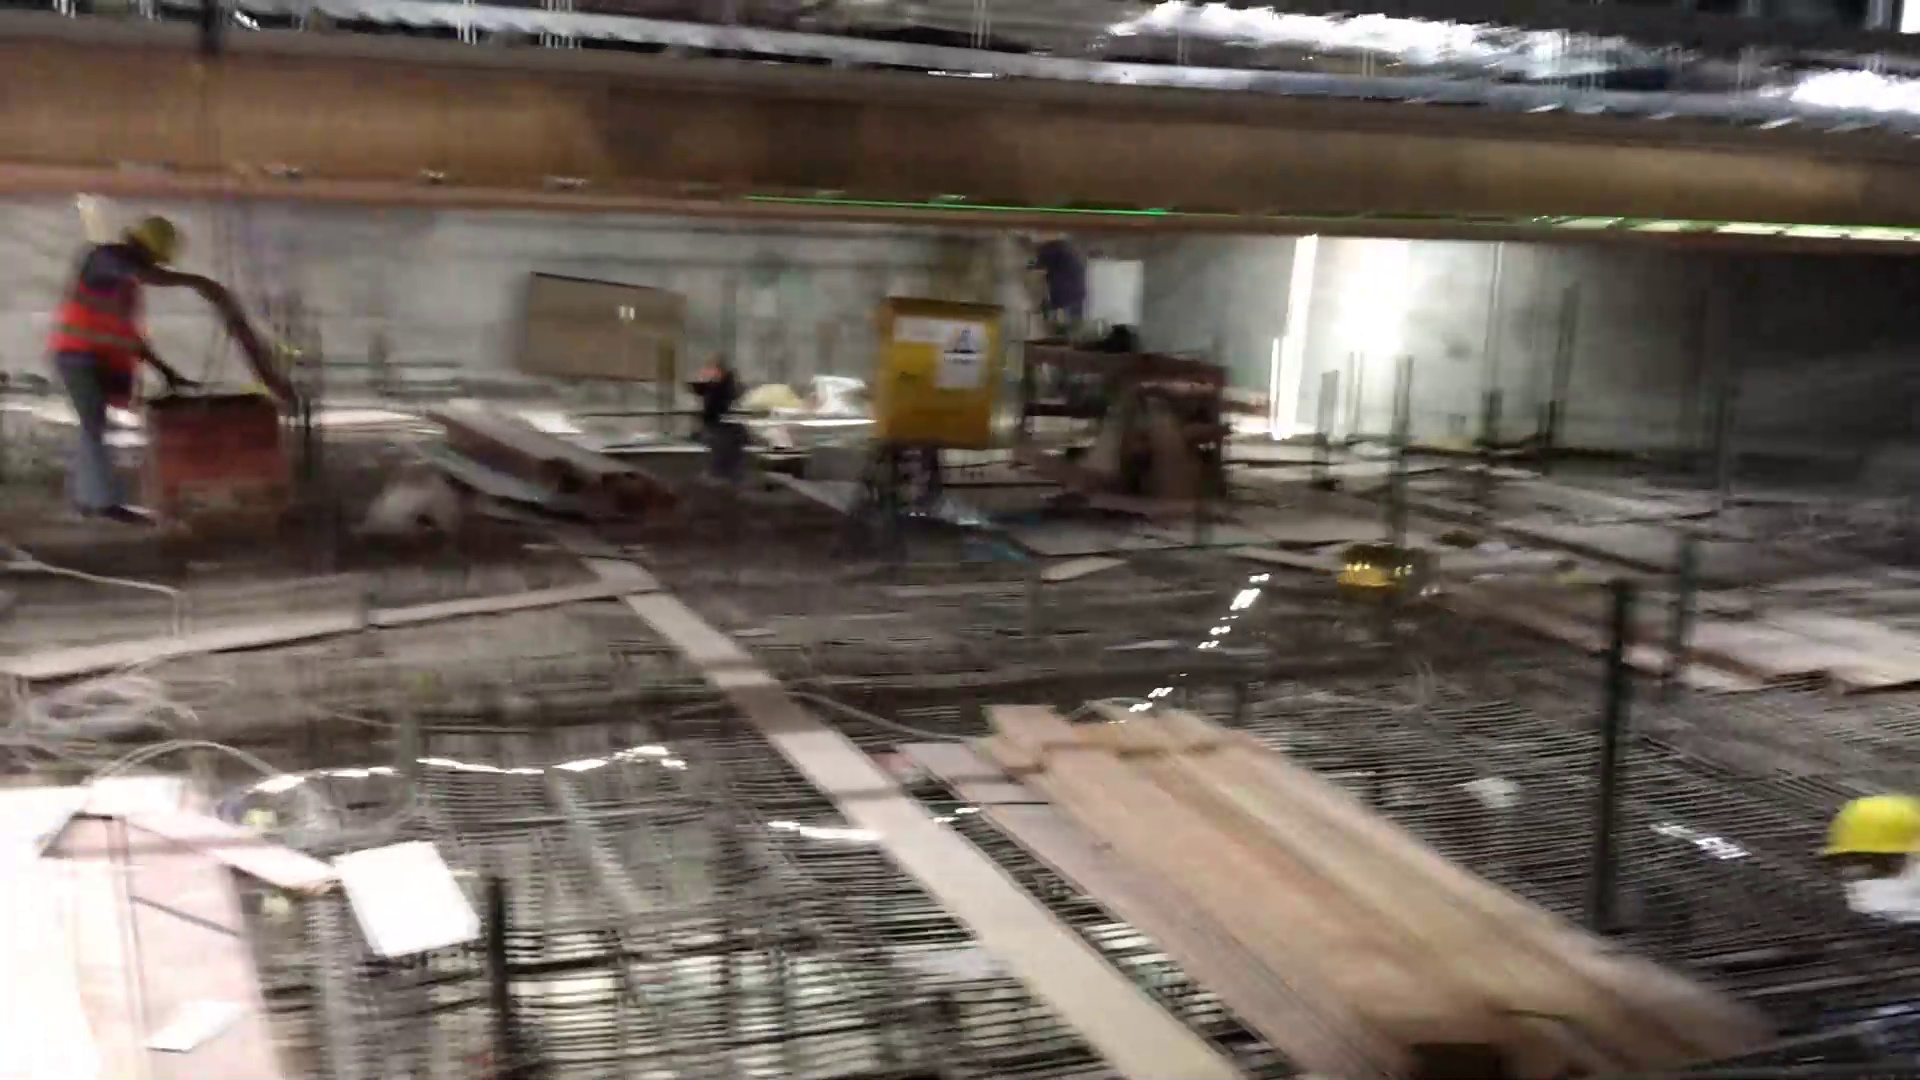board: (974, 707, 1605, 1047)
cutter: (1024, 330, 1214, 494)
ebox: (868, 277, 1017, 540)
helmet: (1814, 779, 1920, 867), (117, 210, 185, 262)
person: (48, 200, 204, 526)
vest: (58, 250, 150, 389)
